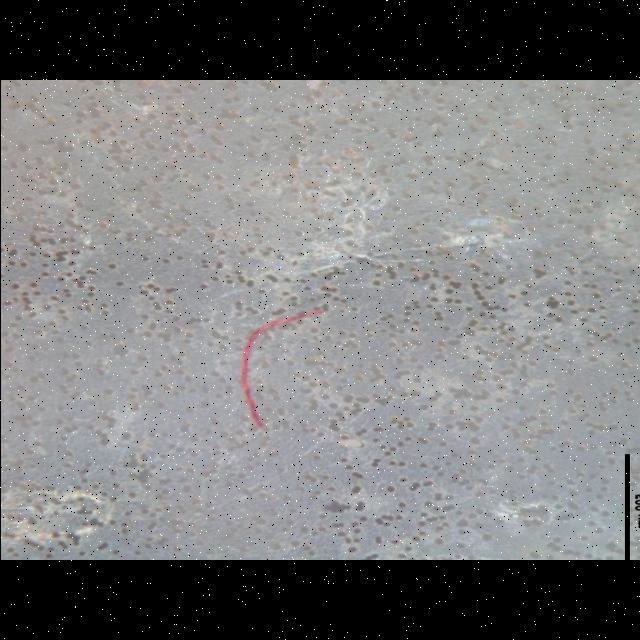Fibre: (227, 307, 331, 431)
